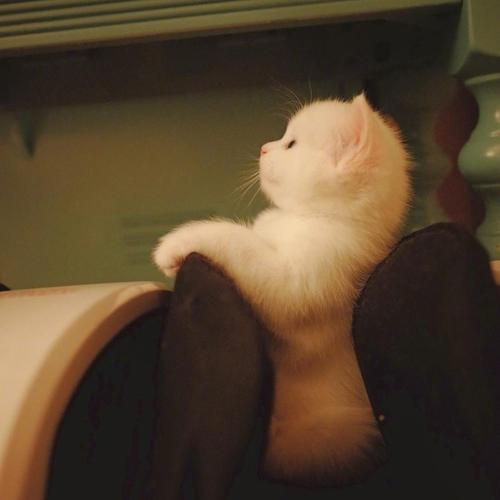cat: (231, 76, 435, 238)
